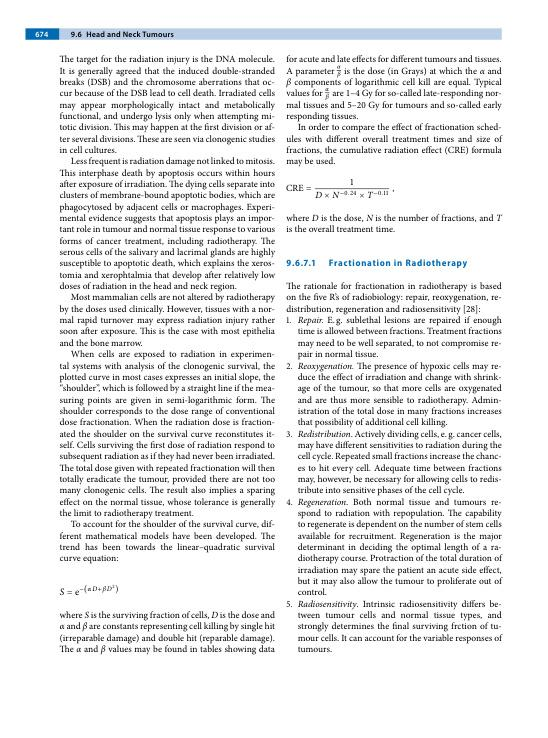header: (85, 30, 174, 38)
list: (285, 315, 504, 654)
sub-section-heading: (328, 258, 468, 270)
text: (58, 53, 277, 656), (285, 53, 504, 235), (285, 281, 502, 315)
